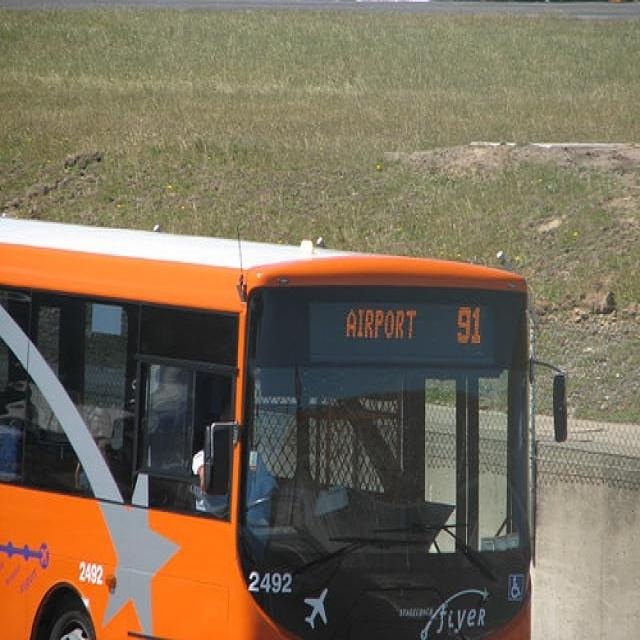bus: (3, 215, 567, 638)
